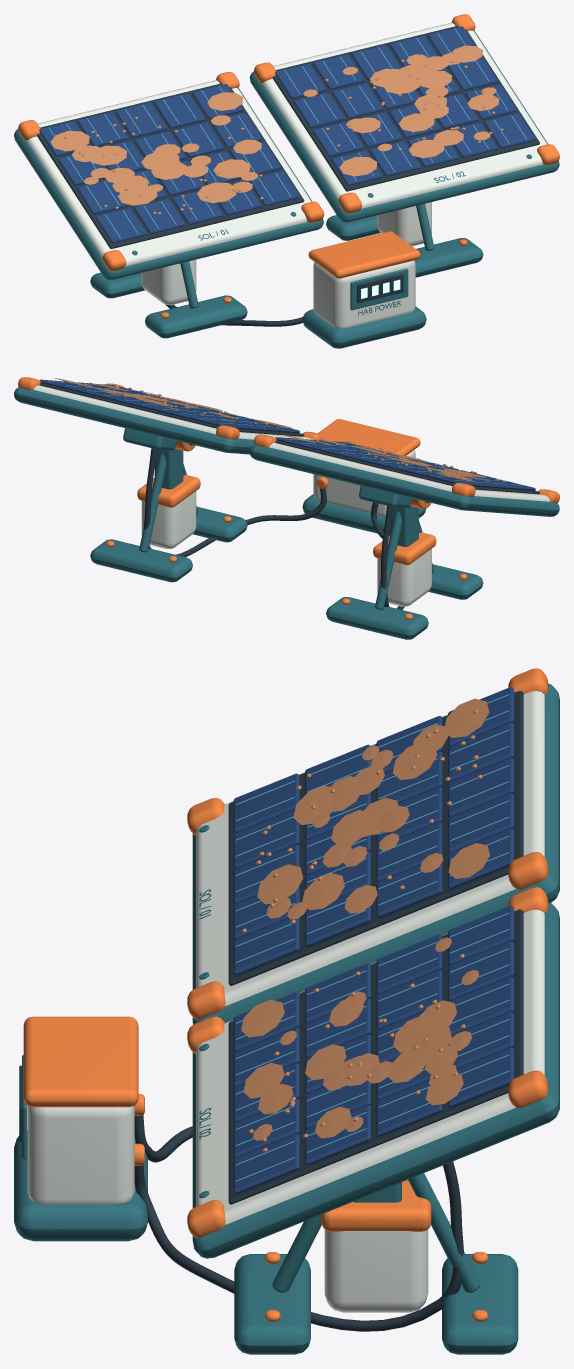
File: Solar_Panels_Dusty.glb
3 views of the same model, one above another, from view 1: azimuth 30°, elevation 25°; view 2: azimuth 150°, elevation 25°; view 3: azimuth 270°, elevation 25° (orthographic). The views are drawn at different scales.
Visible parts, largest first — view 1: Wing 02 • tilt pivot • geometry, Wing 01 • tilt pivot • geometry, SOLAR ARRAY • origin at ground • geometry, Regolith patch.017, Regolith patch.005, Regolith patch.051, Regolith patch.025, Regolith patch.027, Regolith patch.015, Regolith patch.009, Regolith patch.012, Regolith patch.048 (+4 smaller); view 2: SOLAR ARRAY • origin at ground • geometry, Wing 01 • tilt pivot • geometry, Wing 02 • tilt pivot • geometry; view 3: Wing 02 • tilt pivot • geometry, Wing 01 • tilt pivot • geometry, SOLAR ARRAY • origin at ground • geometry, Regolith patch.017, Regolith patch.005, Regolith patch.051, Regolith patch.025, Regolith patch.027, Regolith patch.015, Regolith patch.009, Regolith patch.012, Regolith patch.048 (+3 smaller).
Part boxes in pixels (bbox=[...]): Wing 02 • tilt pivot • geometry: bbox=[249, 14, 559, 222]; Wing 01 • tilt pivot • geometry: bbox=[14, 72, 324, 279]; SOLAR ARRAY • origin at ground • geometry: bbox=[90, 202, 483, 348]; Regolith patch.017: bbox=[197, 182, 236, 202]; Regolith patch.005: bbox=[50, 131, 89, 151]; Regolith patch.051: bbox=[396, 63, 434, 83]; Regolith patch.025: bbox=[88, 145, 126, 165]; Regolith patch.027: bbox=[339, 156, 377, 176]; Regolith patch.015: bbox=[213, 159, 250, 178]; Regolith patch.009: bbox=[151, 161, 186, 179]; Regolith patch.012: bbox=[207, 92, 242, 110]; Regolith patch.048: bbox=[409, 139, 443, 158]; SOLAR ARRAY • origin at ground • geometry: bbox=[90, 419, 483, 639]; Wing 01 • tilt pivot • geometry: bbox=[249, 434, 559, 516]; Wing 02 • tilt pivot • geometry: bbox=[14, 377, 324, 454]; Wing 02 • tilt pivot • geometry: bbox=[187, 887, 559, 1258]; Wing 01 • tilt pivot • geometry: bbox=[187, 668, 559, 1024]; SOLAR ARRAY • origin at ground • geometry: bbox=[14, 1016, 518, 1354]; Regolith patch.017: bbox=[257, 864, 303, 904]; Regolith patch.005: bbox=[444, 698, 489, 737]; Regolith patch.051: bbox=[407, 1024, 451, 1063]; Regolith patch.025: bbox=[392, 741, 437, 780]; Regolith patch.027: bbox=[241, 999, 284, 1037]; Regolith patch.015: bbox=[302, 873, 344, 910]; Regolith patch.009: bbox=[331, 810, 372, 845]; Regolith patch.012: bbox=[448, 843, 489, 878]; Regolith patch.048: bbox=[243, 1063, 284, 1098].
Bounding box in the file's own units: 6.26 × 2.46 × 3.42.
